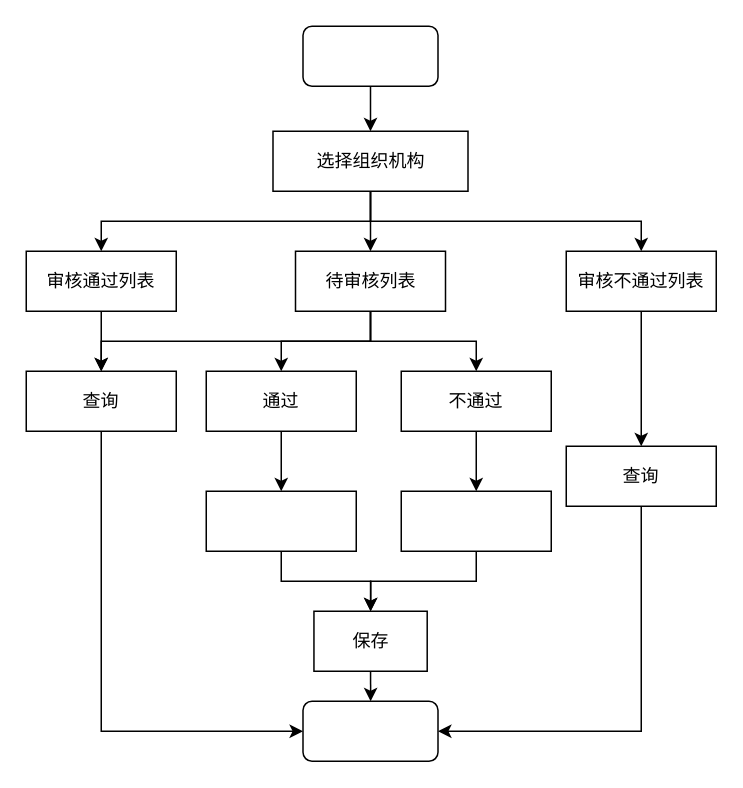
Some shapes in this 743 by 788 pixel diagram are drawn without their labels. Here are the shapes that lost their labels. From the top down, the centre of each, then its label:
the point at 370,55: 开始
the point at 280,520: 设置角色
the point at 475,520: 填写备注信息
the point at 370,730: 结束
